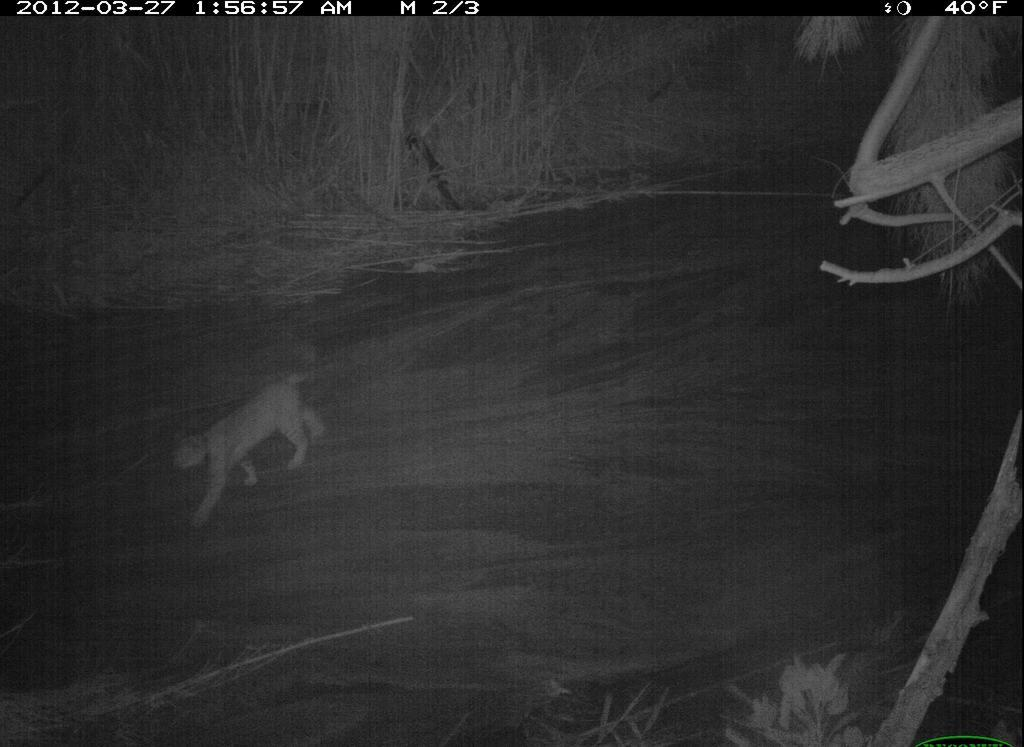bobcat: (167, 367, 327, 534)
